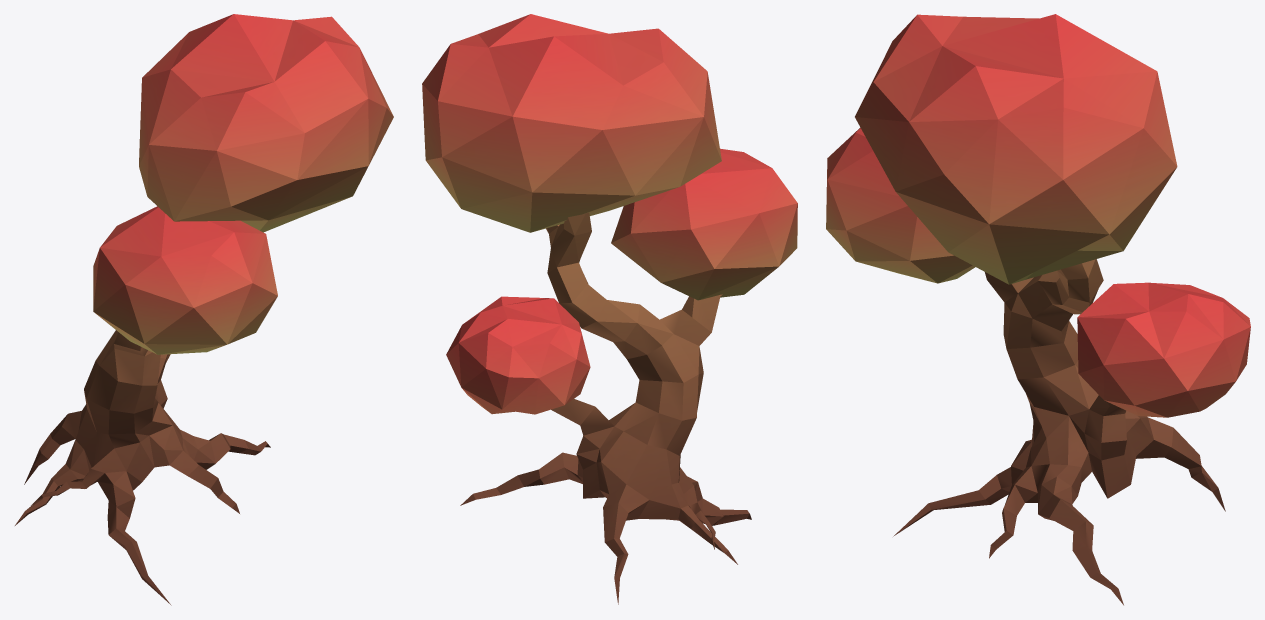
The model's file is ZLP_Plant_D_6.FBX.
The picture shows the model from 3 angles, left to right: view 1: azimuth 30°, elevation 25°; view 2: azimuth 150°, elevation 25°; view 3: azimuth 270°, elevation 25°; orthographic projection. The views are drawn at different scales.
Parts seen in each view (by area): view 1: ZLP_Plant_D_6; view 2: ZLP_Plant_D_6; view 3: ZLP_Plant_D_6.
Boxes of the visible parts, x1,y1,x2,y2 form: ZLP_Plant_D_6: [15, 14, 393, 605]; ZLP_Plant_D_6: [422, 14, 797, 604]; ZLP_Plant_D_6: [826, 14, 1250, 605].
Bounding box in the file's own units: 355 × 515 × 331.
